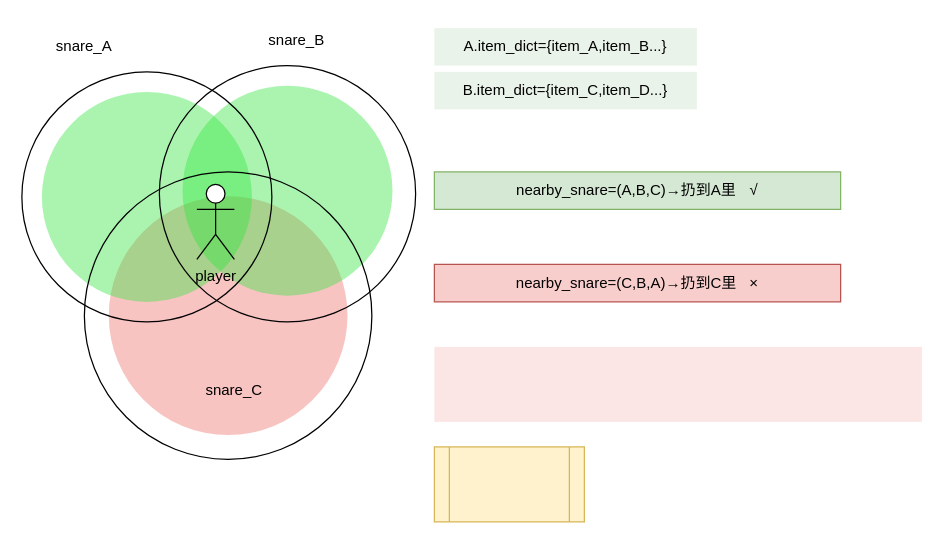
Some shapes in this 944 by 544 pixel diagram are drawn without their labels. The centre of each missing label's shape, as x and y in pixels:
C.item_dict={} 地图内产生一处这样的位置，概率约为（2/3）的20次方≈0.0003: the point at 677,383
更新前: the point at 508,484
